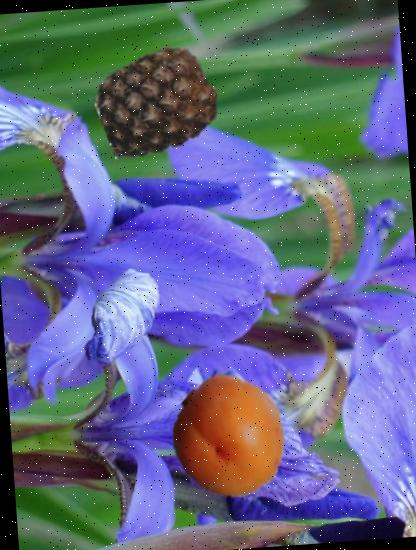Apricot: (166, 373, 294, 500)
Pineapple: (94, 39, 220, 165)
